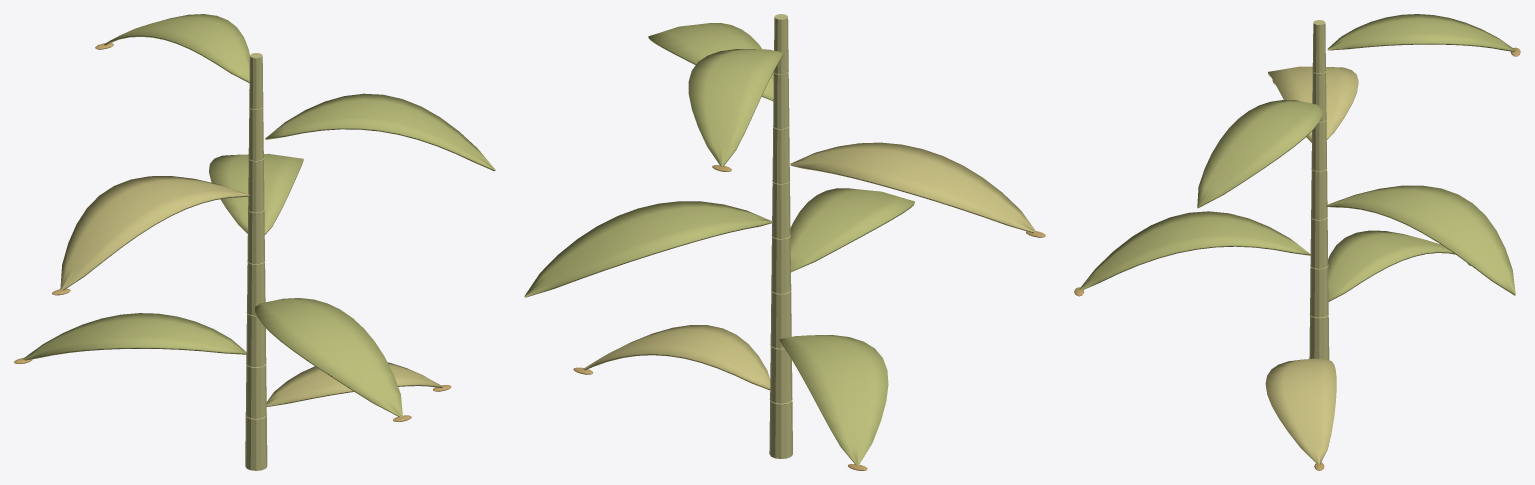
3 renders of one model, left to right at view 1: azimuth 30°, elevation 25°; view 2: azimuth 150°, elevation 25°; view 3: azimuth 270°, elevation 25°, orthographic. The views are drawn at different scales.
Parts seen in each view (by area): view 1: 叶片_03, 叶片_05, 叶片_06, 叶片_02, 叶片_07, 叶片_04, 叶片_01, 茎节_01, 茎节_02, 茎节_03, 茎节_05, 茎节_04 (+3 smaller); view 2: 叶片_04, 叶片_05, 叶片_02, 叶片_07, 叶片_03, 叶片_01, 叶片_06, 茎节_01, 茎节_02, 茎节_04, 茎节_03, 茎节_05 (+3 smaller); view 3: 叶片_04, 叶片_06, 叶片_03, 叶片_01, 叶片_07, 叶片_02, 叶片_05, 茎节_03, 茎节_04, 茎节_02, 茎节_05, 茎节_06 (+2 smaller).
Part boxes in pixels (x1=…): 叶片_03: x1=255, y1=298, x2=402, y2=417; 叶片_05: x1=60, y1=176, x2=249, y2=290; 叶片_06: x1=265, y1=93, x2=495, y2=171; 叶片_02: x1=23, y1=313, x2=246, y2=360; 叶片_07: x1=104, y1=14, x2=249, y2=83; 叶片_04: x1=209, y1=153, x2=303, y2=234; 叶片_01: x1=266, y1=362, x2=442, y2=406; 茎节_01: x1=245, y1=416, x2=267, y2=470; 茎节_02: x1=245, y1=365, x2=266, y2=418; 茎节_03: x1=246, y1=313, x2=266, y2=367; 茎节_05: x1=247, y1=210, x2=264, y2=264; 茎节_04: x1=247, y1=262, x2=265, y2=315; 叶片_04: x1=524, y1=201, x2=772, y2=297; 叶片_05: x1=790, y1=142, x2=1036, y2=232; 叶片_02: x1=779, y1=335, x2=888, y2=465; 叶片_07: x1=688, y1=49, x2=783, y2=166; 叶片_03: x1=790, y1=188, x2=914, y2=272; 叶片_01: x1=583, y1=325, x2=770, y2=390; 叶片_06: x1=648, y1=23, x2=773, y2=101; 茎节_01: x1=769, y1=401, x2=792, y2=458; 茎节_02: x1=770, y1=346, x2=792, y2=403; 茎节_04: x1=771, y1=236, x2=791, y2=293; 茎节_03: x1=770, y1=291, x2=791, y2=348; 茎节_05: x1=772, y1=182, x2=790, y2=238; 叶片_04: x1=1326, y1=185, x2=1515, y2=295; 叶片_06: x1=1197, y1=100, x2=1323, y2=208; 叶片_03: x1=1079, y1=211, x2=1310, y2=290; 叶片_01: x1=1265, y1=358, x2=1336, y2=464; 叶片_07: x1=1327, y1=14, x2=1516, y2=51; 叶片_02: x1=1328, y1=230, x2=1455, y2=301; 叶片_05: x1=1268, y1=66, x2=1358, y2=142; 茎节_03: x1=1310, y1=266, x2=1328, y2=317; 茎节_04: x1=1310, y1=218, x2=1328, y2=268; 茎节_02: x1=1309, y1=315, x2=1329, y2=359; 茎节_05: x1=1311, y1=169, x2=1327, y2=219; 茎节_06: x1=1311, y1=120, x2=1326, y2=171.
Bounding box in the file's own units: 1.01 × 0.9409 × 0.9791.
